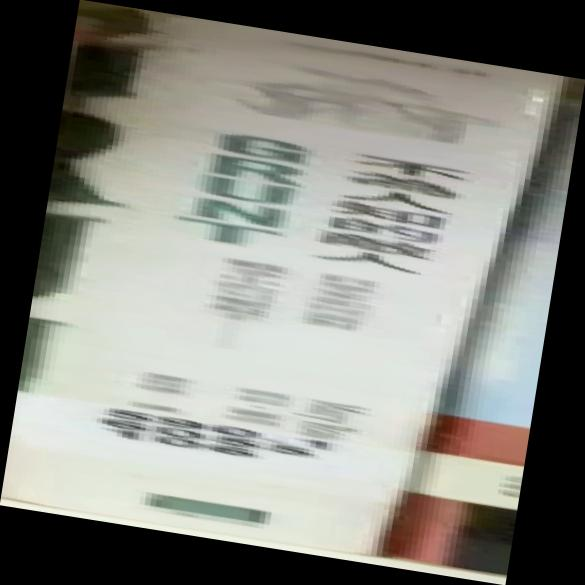book: (1, 1, 580, 585)
